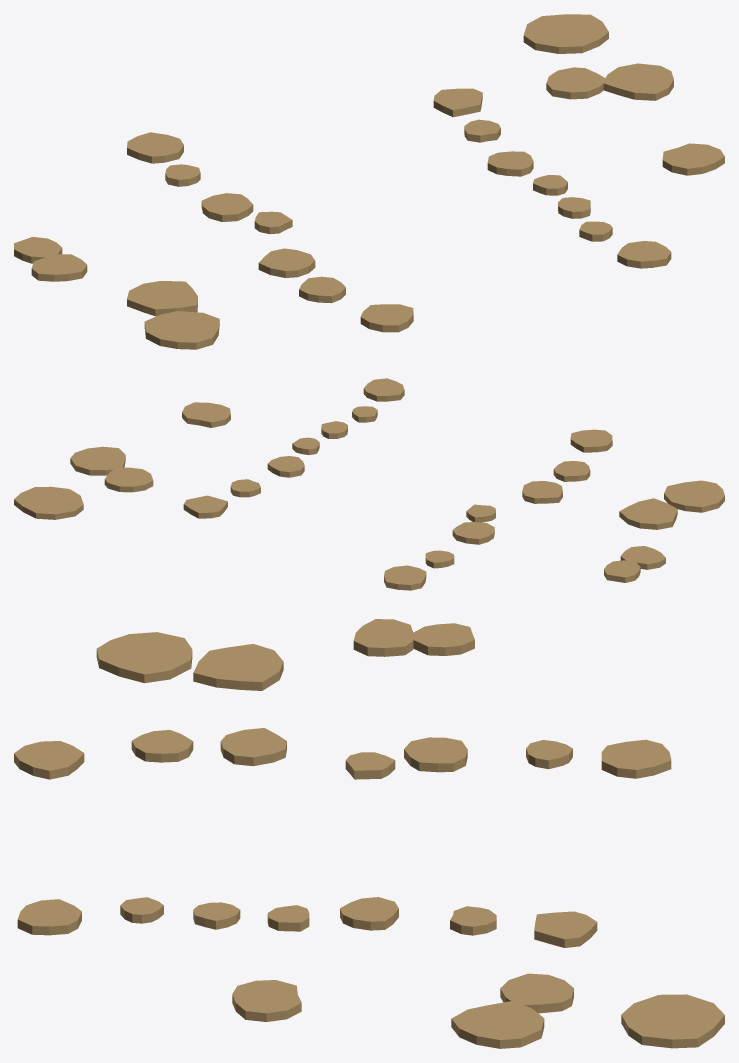
The model's file is IslandRock.fbx.
3 views of the same model, one above another, from view 1: azimuth 30°, elevation 25°; view 2: azimuth 150°, elevation 25°; view 3: azimuth 270°, elevation 25° (orthographic). The views are drawn at different scales.
Visible parts, largest first — view 1: IslandRock0.001; view 2: IslandRock0.001; view 3: IslandRock0.001.
Boxes of the visible parts, x1=… form: IslandRock0.001: x1=14, y1=14, x2=724, y2=349; IslandRock0.001: x1=14, y1=378, x2=724, y2=590; IslandRock0.001: x1=14, y1=619, x2=724, y2=1048.
Size of the model in its own units: 48179 by 470 by 34382.
